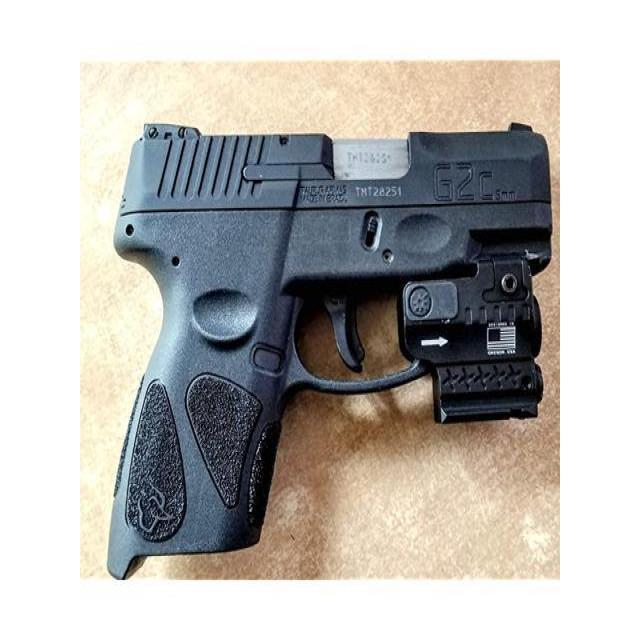HandGun: (107, 123, 552, 581)
